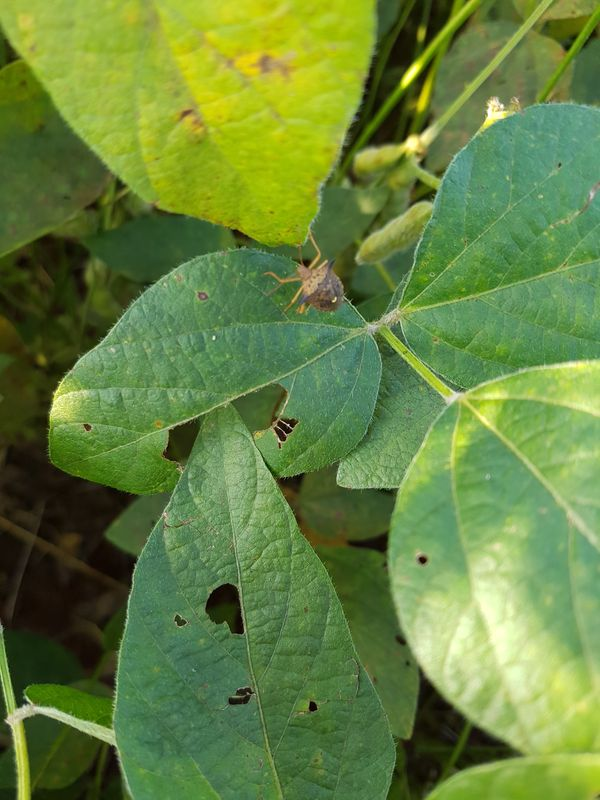Euschistus_heros_adulto: (257, 228, 365, 328)
